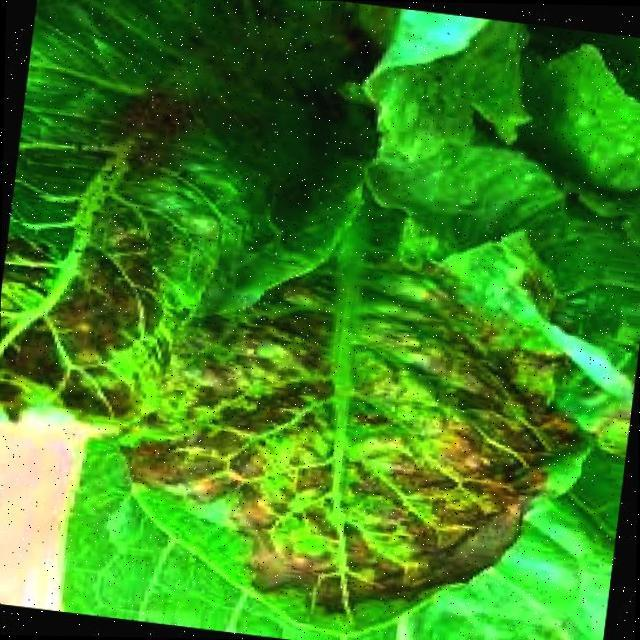Lettuce Mosaic Virus: (0, 61, 213, 428), (243, 357, 535, 590)
